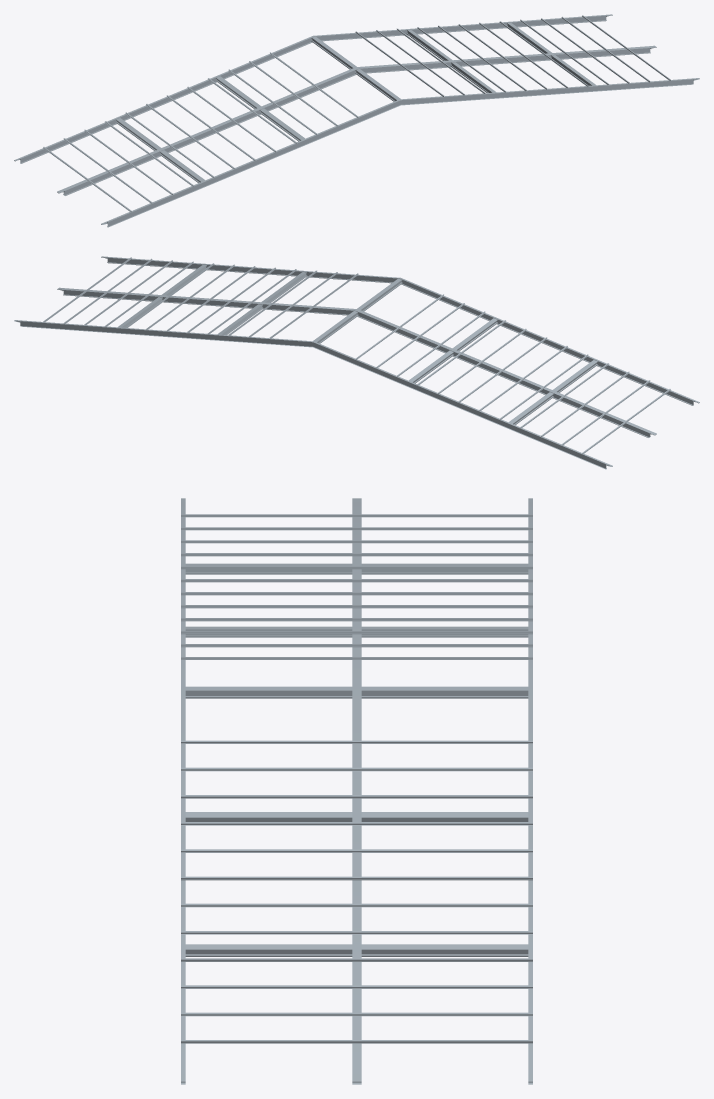
File: SM06_Building_Structure_Roof_Gable_01_Default.fbx
3 views of the same model, one above another, from view 1: azimuth 30°, elevation 25°; view 2: azimuth 150°, elevation 25°; view 3: azimuth 270°, elevation 25° (orthographic). The views are drawn at different scales.
Visible parts, largest first — view 1: SM06_Building_Structure_Roof_Gable_01_Default; view 2: SM06_Building_Structure_Roof_Gable_01_Default; view 3: SM06_Building_Structure_Roof_Gable_01_Default.
Part boxes in pixels (x1=…): SM06_Building_Structure_Roof_Gable_01_Default: x1=14, y1=14, x2=699, y2=227; SM06_Building_Structure_Roof_Gable_01_Default: x1=14, y1=256, x2=699, y2=469; SM06_Building_Structure_Roof_Gable_01_Default: x1=181, y1=498, x2=532, y2=1084.
Size of the model in its own units: 58.84 by 5.26 by 15.
